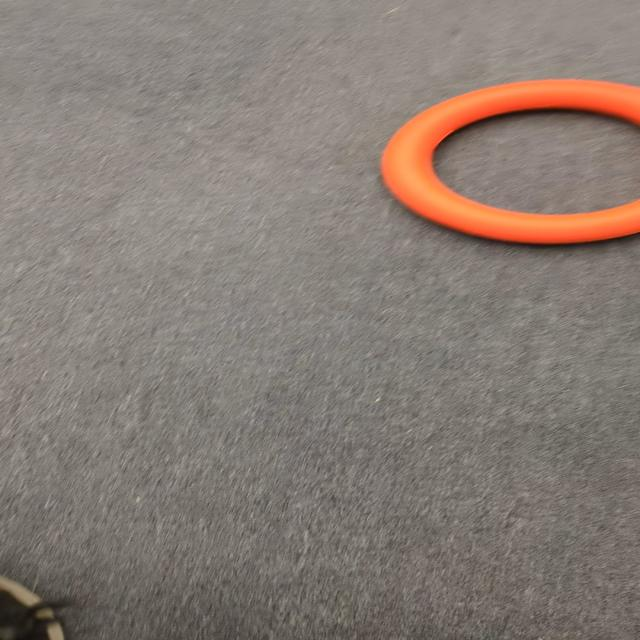note: (380, 78, 640, 242)
